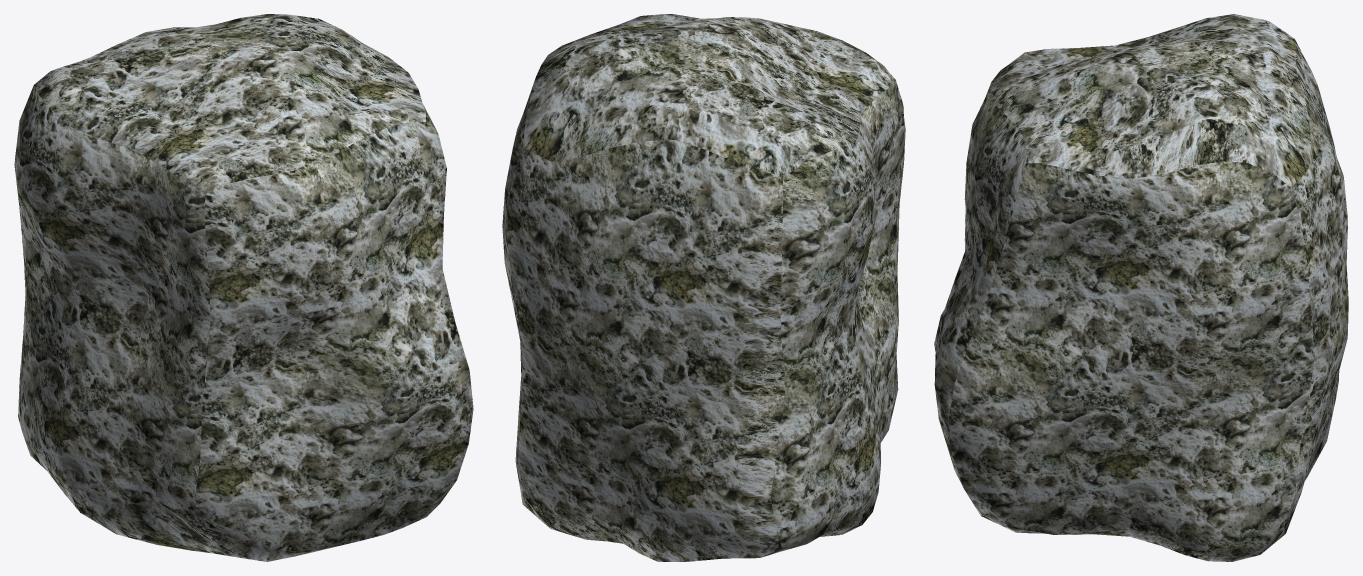
File: rock_lrg.fbx
3 views of the same model, side by side, from view 1: azimuth 30°, elevation 25°; view 2: azimuth 150°, elevation 25°; view 3: azimuth 270°, elevation 25° (orthographic). The views are drawn at different scales.
Parts seen in each view (by area): view 1: rock_lrg; view 2: rock_lrg; view 3: rock_lrg.
Boxes of the visible parts, <box> form: rock_lrg: <box>14,14,473,561</box>; rock_lrg: <box>502,14,905,561</box>; rock_lrg: <box>934,14,1348,561</box>.
Bounding box in the file's own units: 0.9081 × 1.18 × 0.9635.
1 material, 1 textured.
